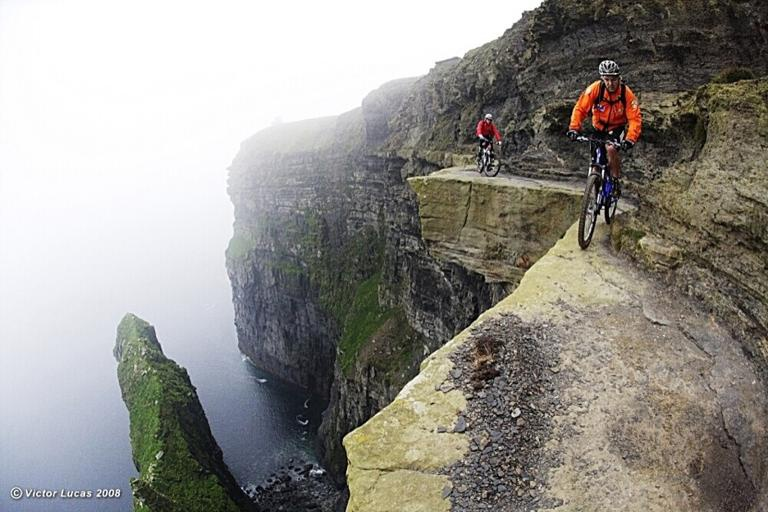non-vehicle: (566, 132, 623, 249), (476, 137, 500, 177)
